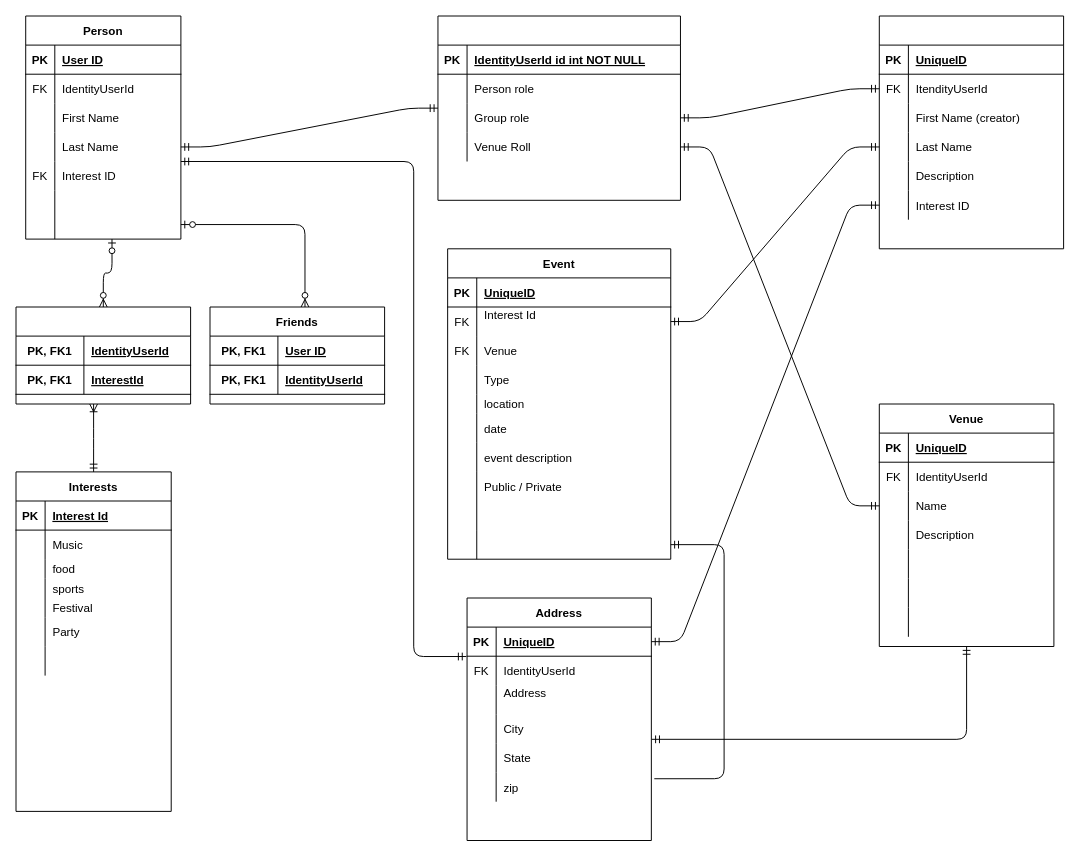
The diagram is 1080 pixels wide and 857 high, and some of its shapes have lost their labels. Each missing label, with the box of its shape:
Groups: (878, 15, 1064, 249)
UserInterests: (15, 306, 191, 404)
Users: (437, 15, 680, 200)
